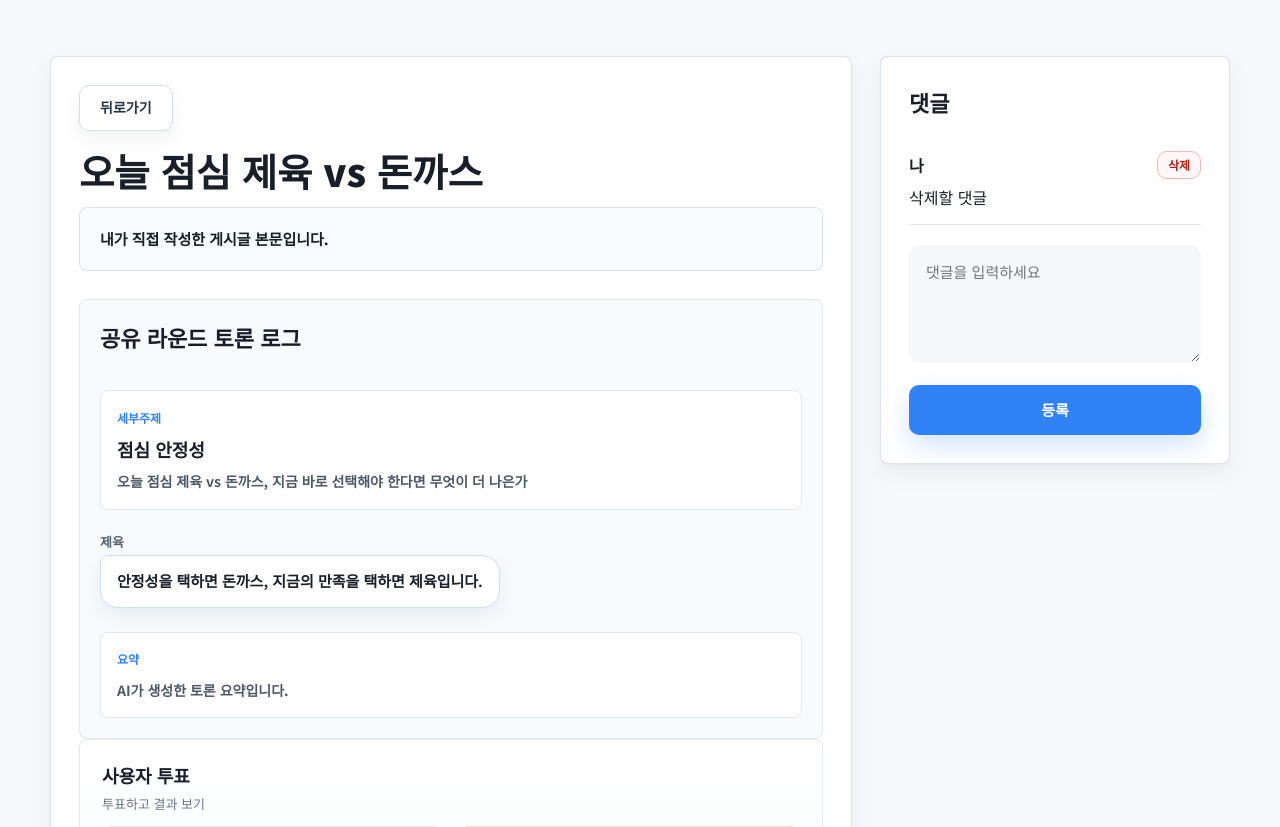
PostDetailView › submits comments with Enter and deletes owner comments
In the text box with placeholder "댓글을 입력하세요": (1055, 304) [909,245,1201,363], type "엔터로 등록한 댓글"
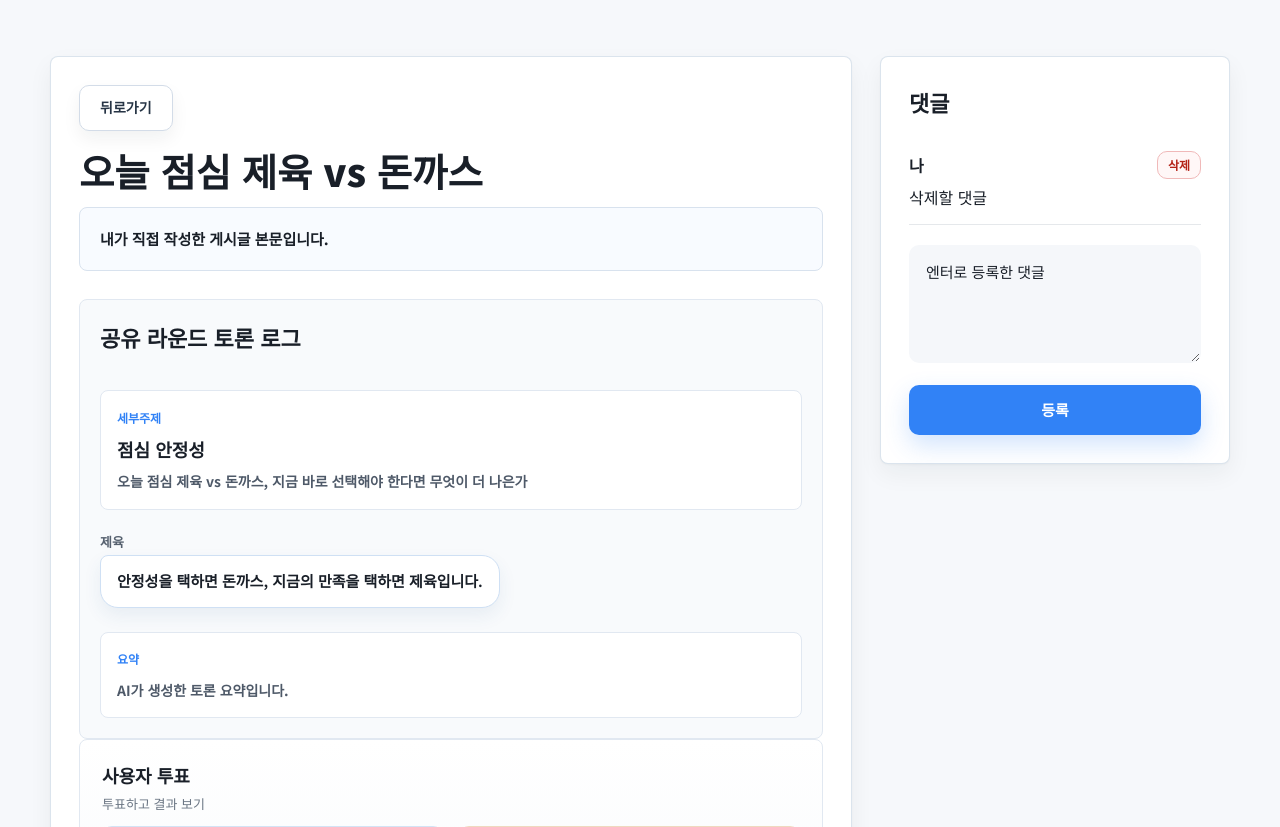
Press Enter in the text box, box [909,245,1201,363]
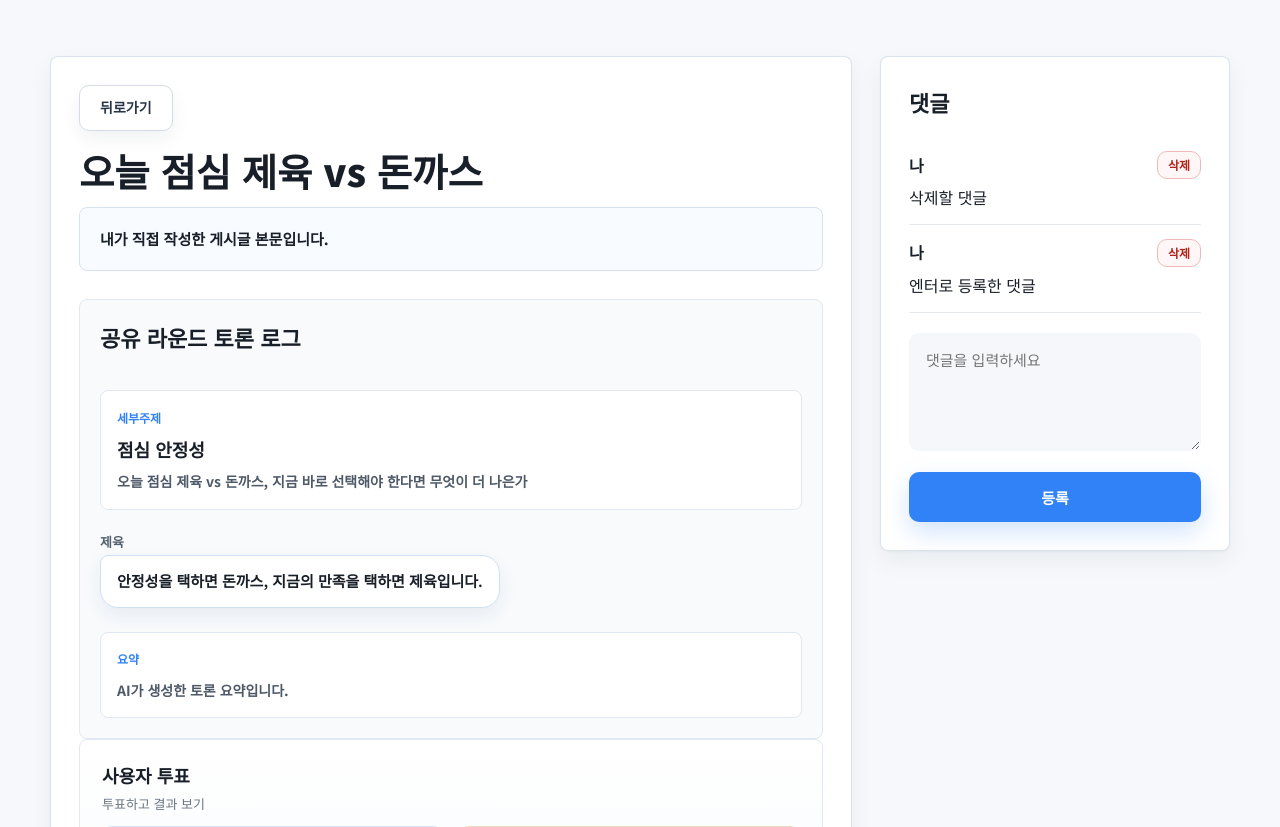
Expected: the text "엔터로 등록한 댓글" is shown, [909,273,1036,297]
Expected: the number of buttons with class "comment-delete-button" is 2
Click the 1st button with class "comment-delete-button": (1179, 165) [1157,151,1201,179]
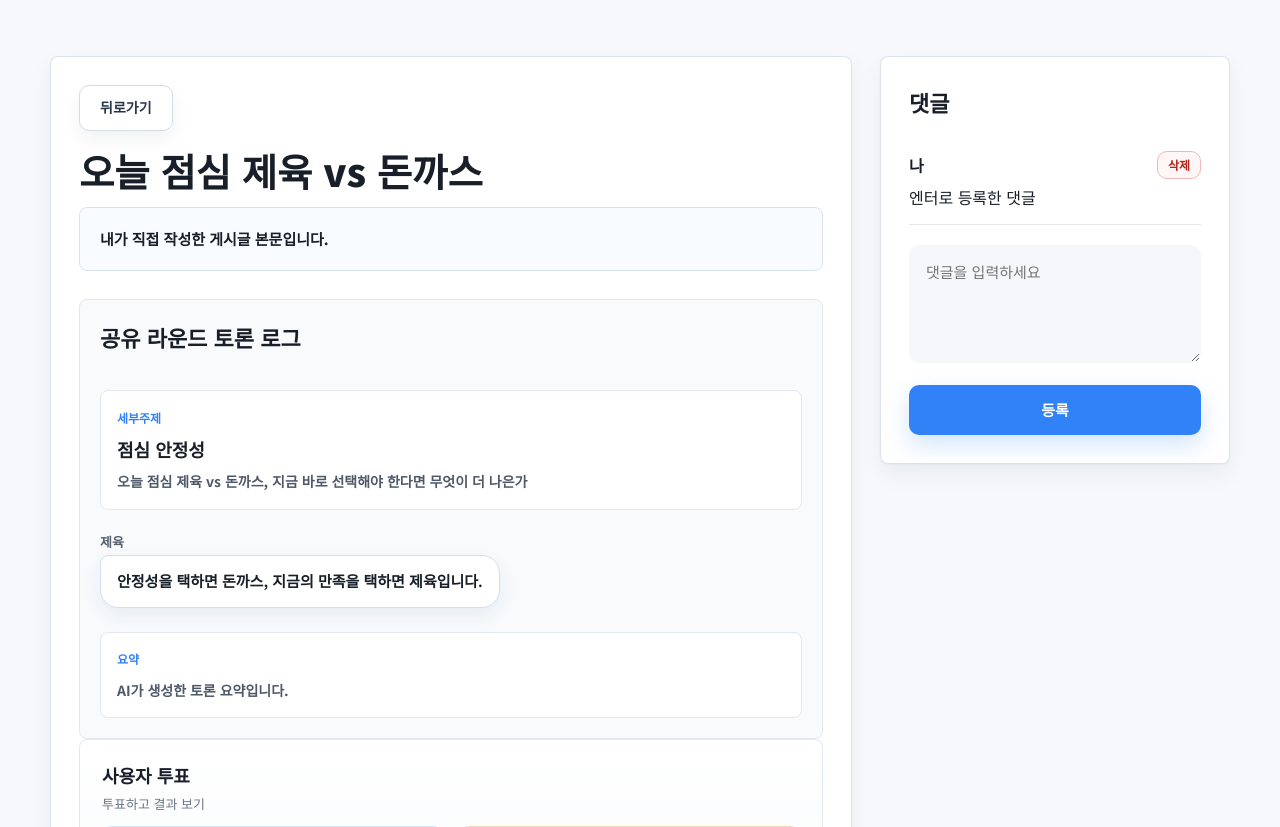
Expected: the text "삭제할 댓글" is gone
